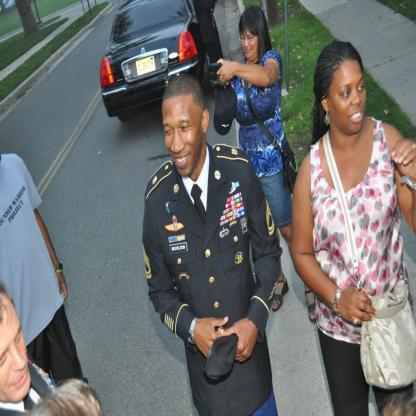Car: (95, 1, 222, 126)
